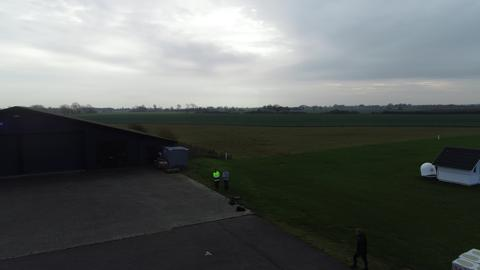RockwoolPallet: (452, 245, 477, 269)
